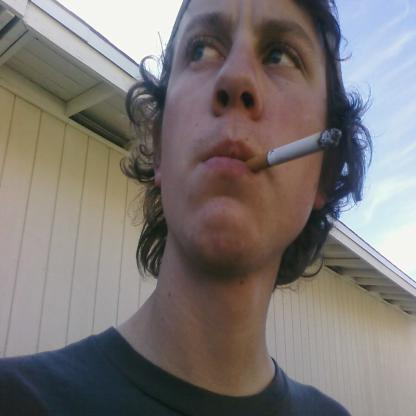smoking: (241, 129, 342, 175)
